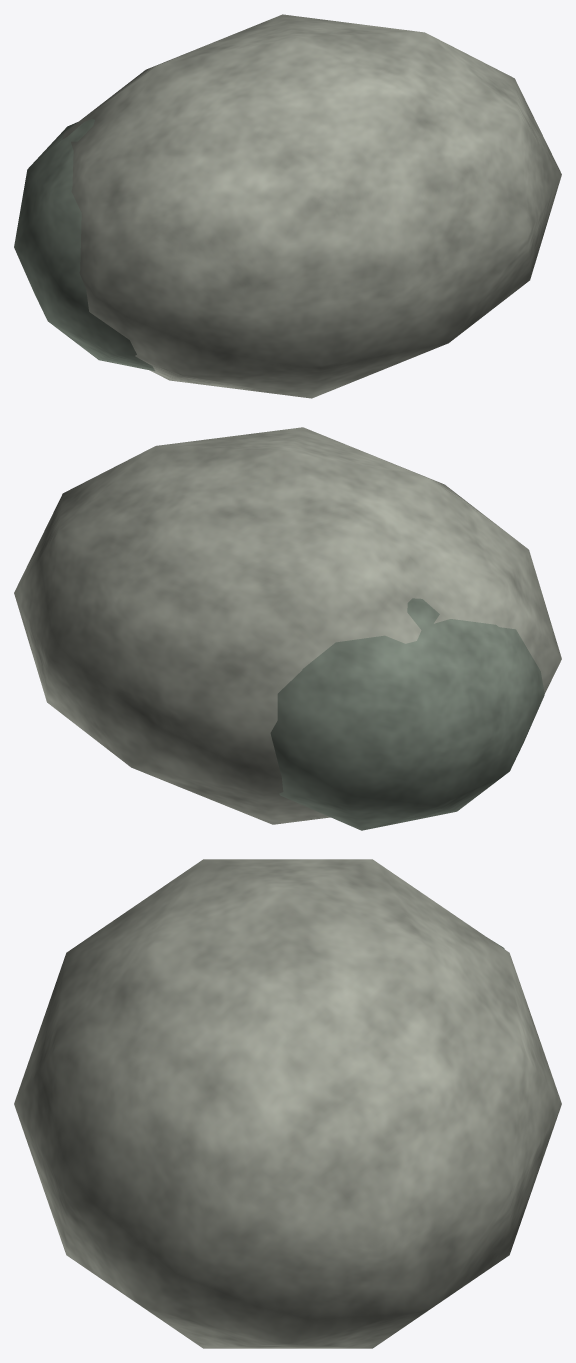
File: boulder.glb
3 renders of one model, top to bottom at view 1: azimuth 30°, elevation 25°; view 2: azimuth 150°, elevation 25°; view 3: azimuth 270°, elevation 25°, orthographic. The views are drawn at different scales.
Parts seen in each view (by area): view 1: boulder_textured_mesh; view 2: boulder_textured_mesh; view 3: boulder_textured_mesh.
Boxes of the visible parts, <box> form: boulder_textured_mesh: <box>14,14,561,398</box>; boulder_textured_mesh: <box>14,427,561,830</box>; boulder_textured_mesh: <box>14,859,561,1348</box>.
Bounding box in the file's own units: 2.79 × 1.9 × 2.22.
Materials: 1 (1 with a texture image).
